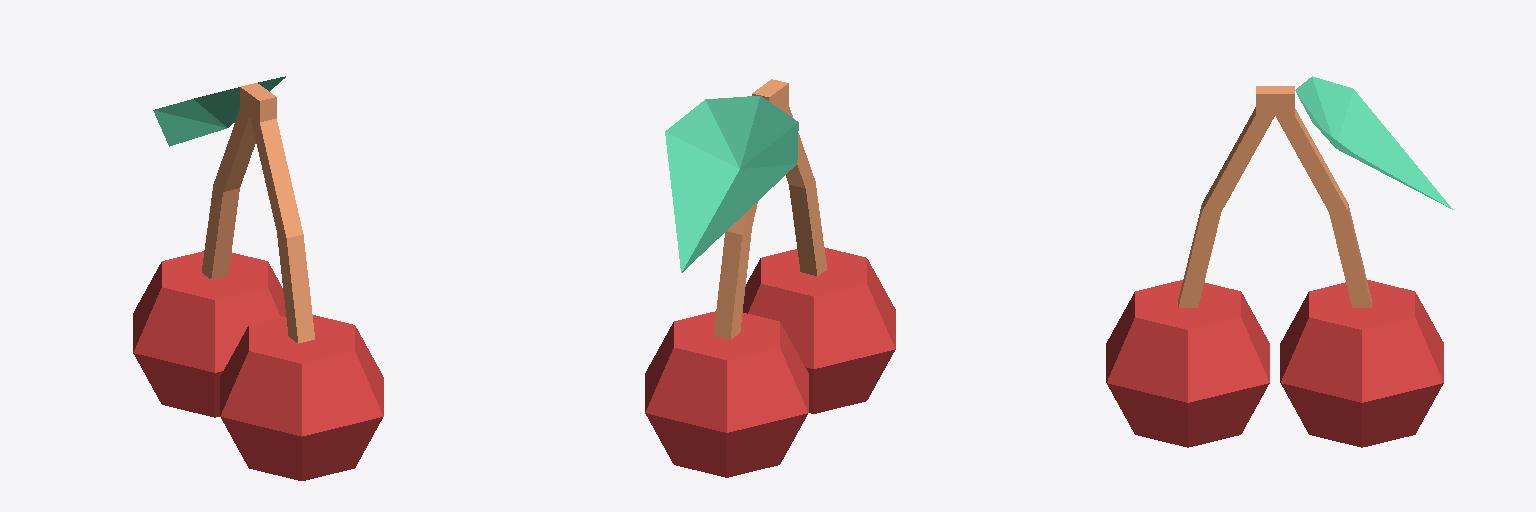
File: cherries.obj
The picture shows the model from 3 angles: view 1: azimuth 30°, elevation 25°; view 2: azimuth 150°, elevation 25°; view 3: azimuth 270°, elevation 25°; orthographic projection.
Visible parts, largest first — view 1: cherries; view 2: cherries; view 3: cherries.
Boxes of the visible parts, x1,y1,x2,y2 form: cherries: [133, 76, 383, 480]; cherries: [645, 79, 895, 477]; cherries: [1106, 76, 1452, 447].
Bounding box in the file's own units: 0.088 × 0.1707 × 0.1619.